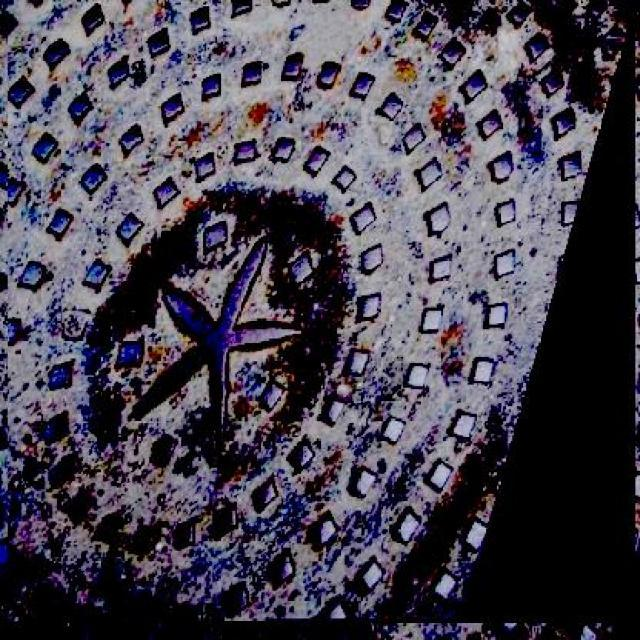Manhole: (8, 6, 636, 623)
